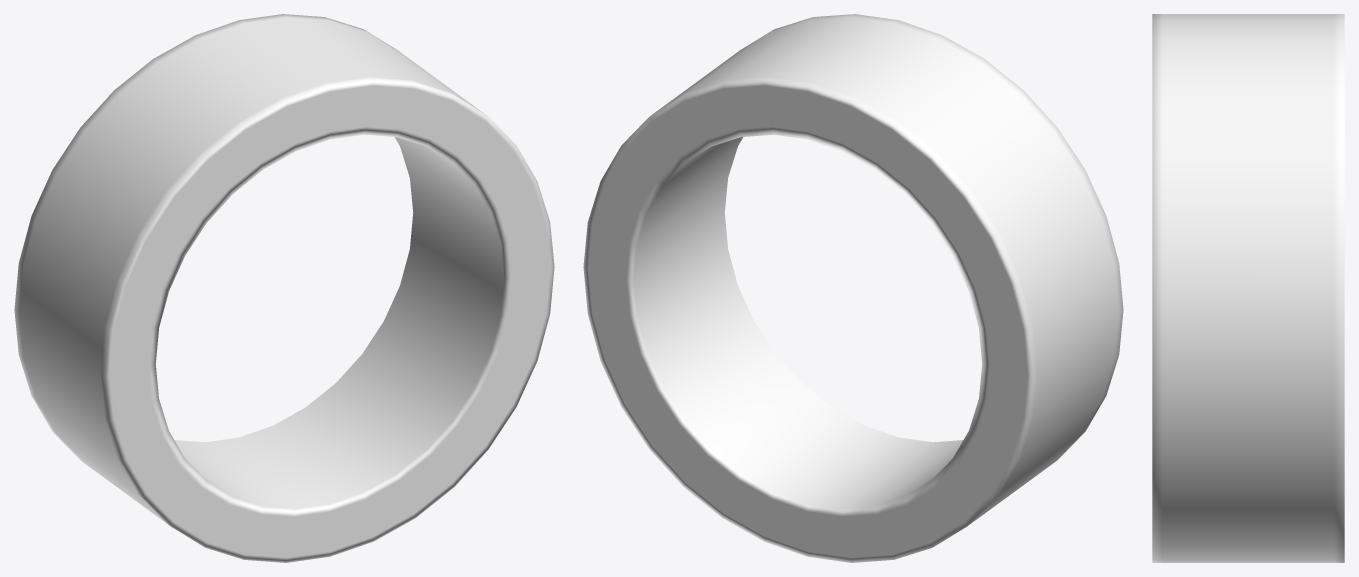
File: Ring.fbx
3 renders of one model, left to right at view 1: azimuth 30°, elevation 25°; view 2: azimuth 150°, elevation 25°; view 3: azimuth 270°, elevation 25°, orthographic. The views are drawn at different scales.
Parts seen in each view (by area): view 1: Ring; view 2: Ring; view 3: Ring.
Part boxes in pixels (x1,y1,x2,y2): Ring: (14,14,554,562); Ring: (583,14,1123,562); Ring: (1152,14,1344,562).
Bounding box in the file's own units: 3 × 3 × 1.05.
Materials: 1 (1 with a texture image).
